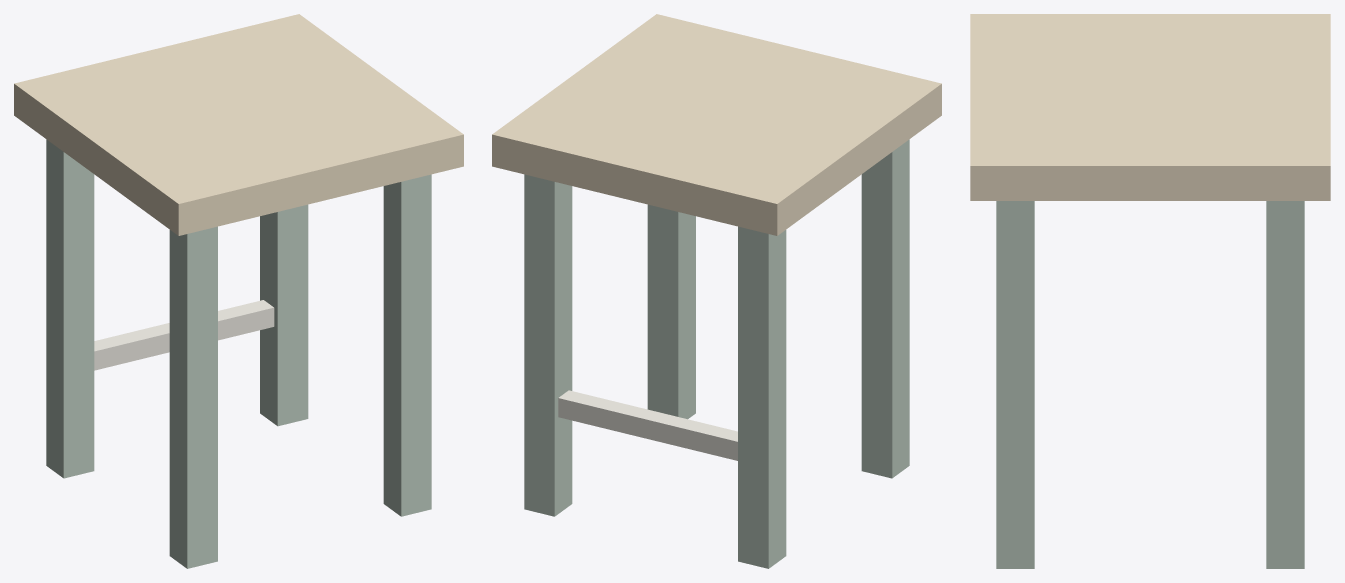
The model's file is shelf_stool_1.glb.
3 views of the same model, side by side, from view 1: azimuth 30°, elevation 25°; view 2: azimuth 150°, elevation 25°; view 3: azimuth 270°, elevation 25° (orthographic). The views are drawn at different scales.
Parts seen in each view (by area): view 1: p0, p2, p4, p1, p3, p5; view 2: p0, p1, p3, p2, p4, p5; view 3: p0, p3, p4.
Boxes of the visible parts, x1,y1,x2,y2 form: p0: (14, 14, 463, 235); p2: (169, 226, 217, 568); p4: (383, 174, 431, 516); p1: (46, 139, 94, 478); p3: (260, 204, 308, 426); p5: (94, 300, 274, 370); p0: (492, 14, 941, 235); p1: (738, 226, 786, 568); p3: (524, 174, 572, 516); p2: (861, 139, 909, 478); p4: (647, 204, 695, 419); p5: (558, 390, 737, 460); p0: (970, 14, 1330, 200); p3: (1266, 201, 1304, 568); p4: (996, 201, 1034, 568).
Size of the model in its own units: 0.28 by 0.355 by 0.28.
